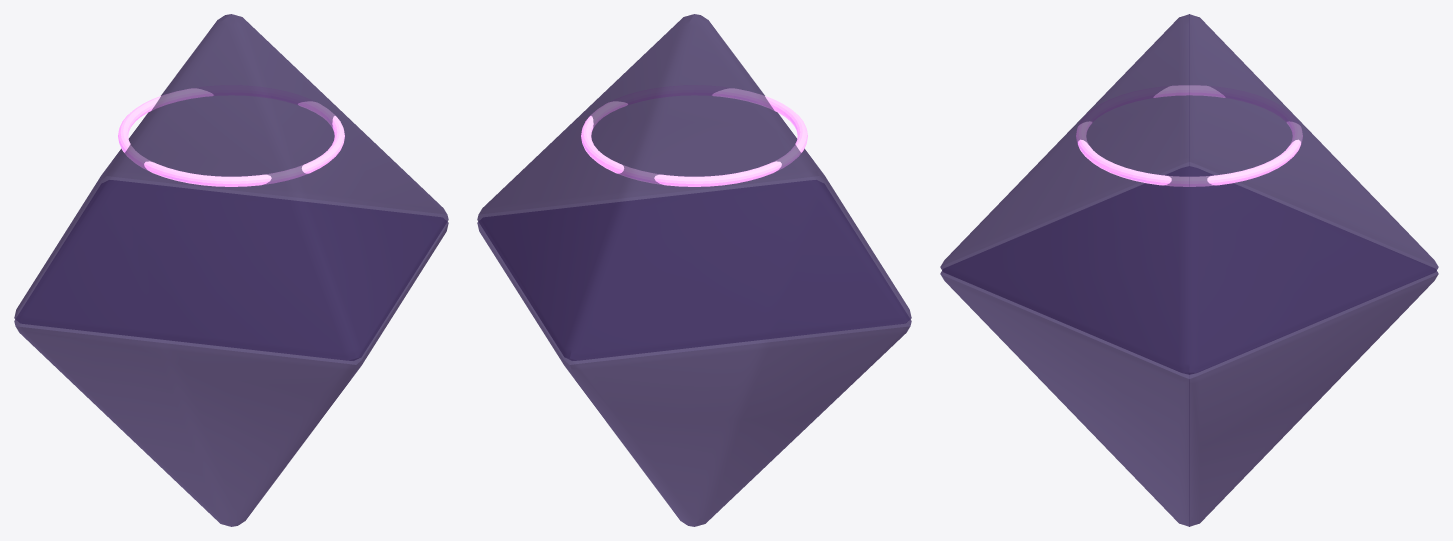
Rendered from ethereum_vault.glb.
The picture shows the model from 3 angles, left to right: view 1: azimuth 30°, elevation 25°; view 2: azimuth 150°, elevation 25°; view 3: azimuth 270°, elevation 25°; orthographic projection.
Parts seen in each view (by area): view 1: EthereumVault, EquatorGlow; view 2: EthereumVault, EquatorGlow; view 3: EthereumVault, EquatorGlow.
Boxes of the visible parts, x1,y1,x2,y2 form: EthereumVault: (14,14,448,526); EquatorGlow: (118,86,344,186); EthereumVault: (477,14,911,526); EquatorGlow: (581,86,807,186); EthereumVault: (940,14,1438,526); EquatorGlow: (1076,85,1302,186).
Bounding box in the file's own units: 1.75 × 1.98 × 1.75.
